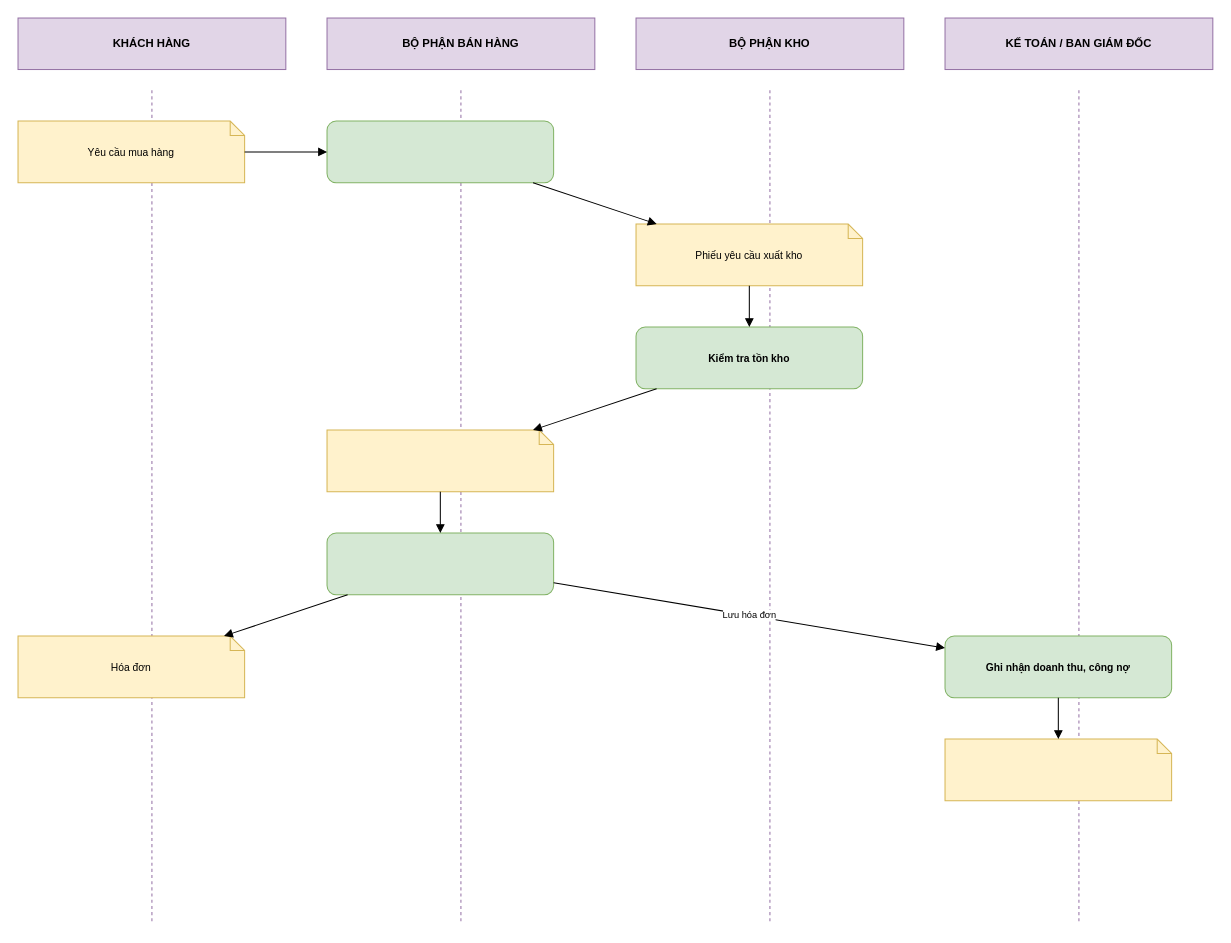
Image size: 1231x943. Some labels were removed from this diagram. Here are the shapes that lost their labels. From the top down, the centre of each, then its label:
pixel 440 151: Lập đơn hàng
pixel 440 460: Xác nhận tồn kho
pixel 440 563: Lập hóa đơn
pixel 1058 769: Báo cáo doanh thu
